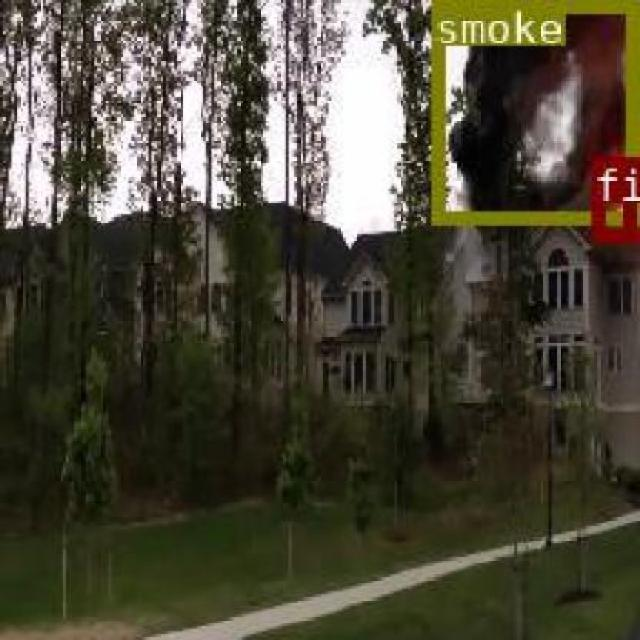Fire: (589, 156, 634, 239)
Smoke: (428, 0, 634, 220)
